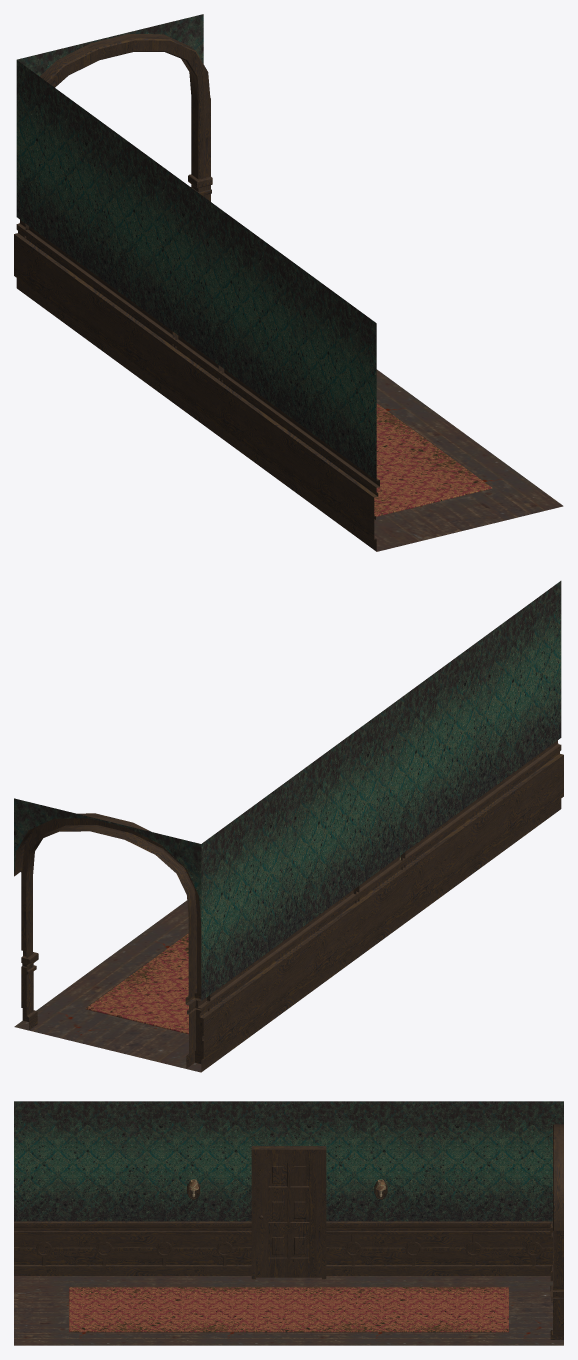
Rendered from Environment_Almikieieva FBX.fbx.
3 renders of one model, top to bottom at view 1: azimuth 30°, elevation 25°; view 2: azimuth 150°, elevation 25°; view 3: azimuth 270°, elevation 25°, orthographic. The views are drawn at different scales.
Parts seen in each view (by area): view 1: wall, floor, carpet, arch, wall2; view 2: wall, floor, arch, carpet, wall2; view 3: wall, carpet, floor, door, arch, door2, circle1, circle6, circle, circle2, circle5, circle4 (+2 smaller).
Boxes of the visible parts, x1=… form: wall: x1=14, y1=60, x2=379, y2=551; floor: x1=374, y1=369, x2=563, y2=551; carpet: x1=374, y1=403, x2=492, y2=516; arch: x1=24, y1=34, x2=212, y2=239; wall2: x1=17, y1=14, x2=203, y2=76; wall: x1=198, y1=581, x2=563, y2=1072; floor: x1=14, y1=900, x2=201, y2=1072; arch: x1=14, y1=813, x2=210, y2=1068; carpet: x1=85, y1=933, x2=188, y2=1034; wall2: x1=14, y1=798, x2=201, y2=921; wall: x1=14, y1=1101, x2=563, y2=1275; carpet: x1=69, y1=1287, x2=508, y2=1332; floor: x1=14, y1=1276, x2=563, y2=1345; door: x1=256, y1=1153, x2=321, y2=1277; arch: x1=550, y1=1124, x2=563, y2=1339; door2: x1=251, y1=1146, x2=326, y2=1279; circle1: x1=74, y1=1234, x2=134, y2=1265; circle6: x1=443, y1=1234, x2=503, y2=1265; circle: x1=14, y1=1234, x2=74, y2=1265; circle2: x1=134, y1=1234, x2=194, y2=1265; circle5: x1=383, y1=1234, x2=443, y2=1265; circle4: x1=326, y1=1234, x2=383, y2=1265.
Size of the model in its own units: 304 by 350 by 1000.
Materials: 4 (4 with a texture image).
